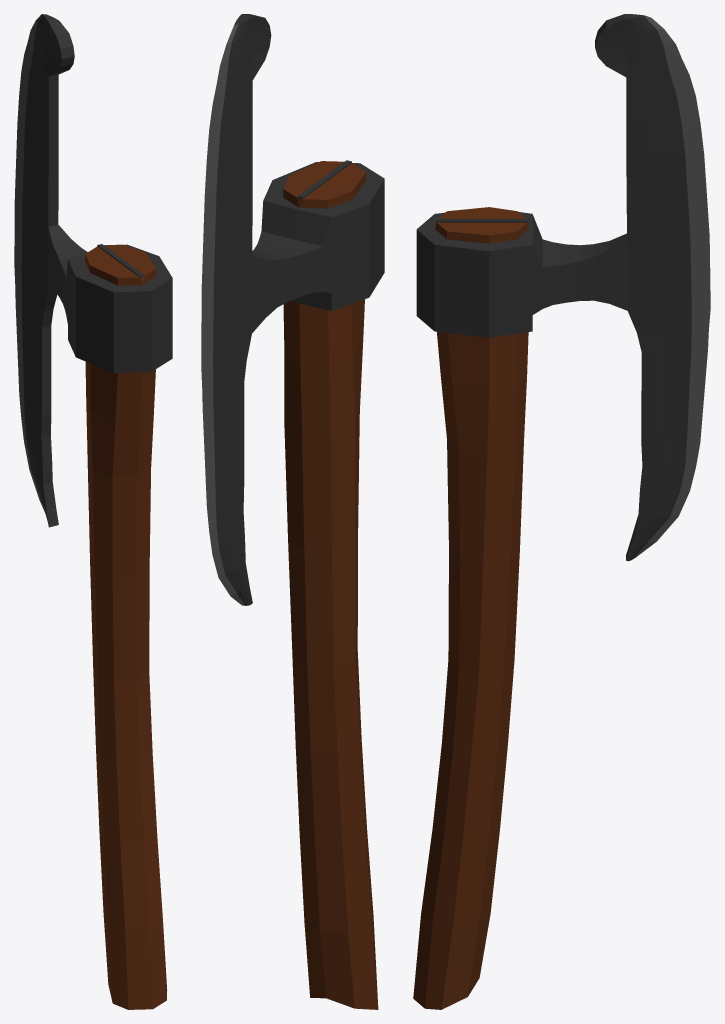
File: broadAxe.obj
The picture shows the model from 3 angles, left to right: view 1: azimuth 30°, elevation 25°; view 2: azimuth 150°, elevation 25°; view 3: azimuth 270°, elevation 25°; orthographic projection. The views are drawn at different scales.
Parts seen in each view (by area): view 1: BroadAxe_Cylinder.036; view 2: BroadAxe_Cylinder.036; view 3: BroadAxe_Cylinder.036.
Boxes of the visible parts, left/top/right/bottom form: BroadAxe_Cylinder.036: left=14, top=14, right=172, bottom=1009; BroadAxe_Cylinder.036: left=201, top=14, right=384, bottom=1009; BroadAxe_Cylinder.036: left=413, top=14, right=710, bottom=1009.
Bounding box in the file's own units: 0.1568 × 1.64 × 0.4508.
